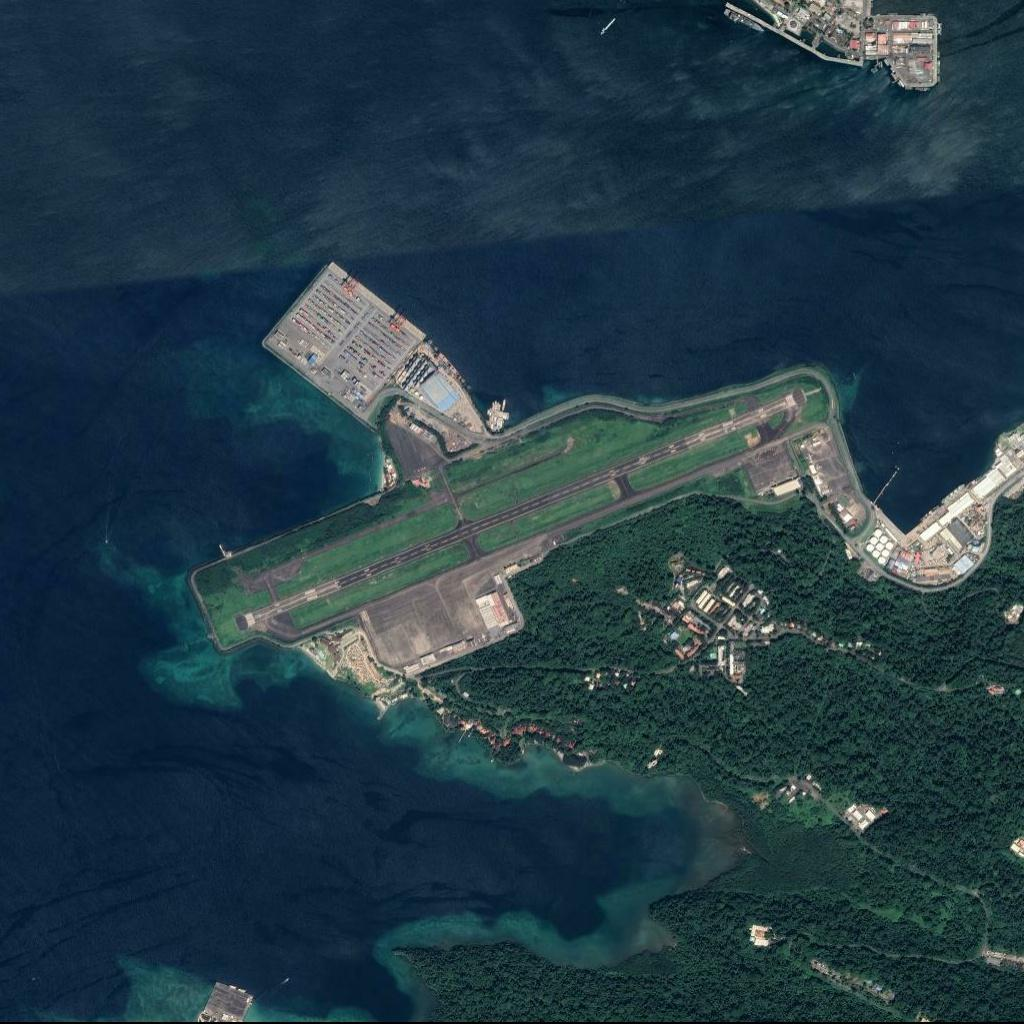harbor: (261, 261, 427, 421)
